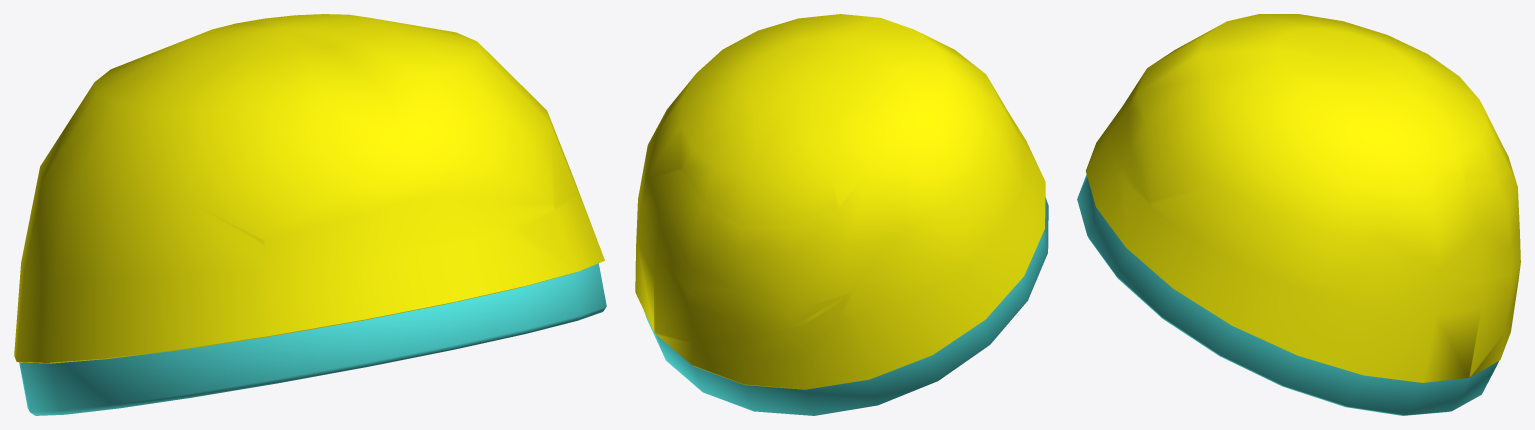
File: Helmet_Doctor.fbx
3 renders of one model, left to right at view 1: azimuth 30°, elevation 25°; view 2: azimuth 150°, elevation 25°; view 3: azimuth 270°, elevation 25°, orthographic. The views are drawn at different scales.
Visible parts, largest first — view 1: Helmet_Doctor; view 2: Helmet_Doctor; view 3: Helmet_Doctor.
Part boxes in pixels (x1,y1,x2,y2): Helmet_Doctor: (14,14,606,415); Helmet_Doctor: (635,14,1048,415); Helmet_Doctor: (1077,14,1520,415).
Bounding box in the file's own units: 409 × 318 × 394.
